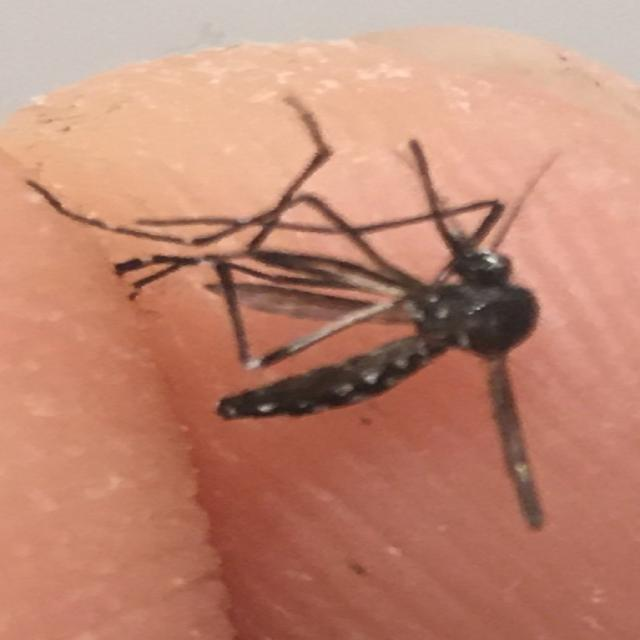albopictus: (46, 108, 604, 442)
